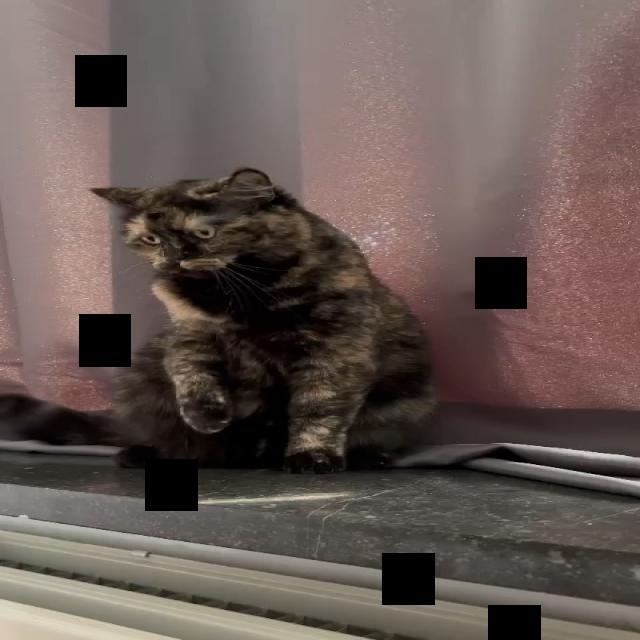authorized: (88, 166, 437, 475)
